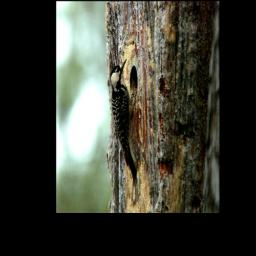Woodpecker: (106, 54, 144, 196)
